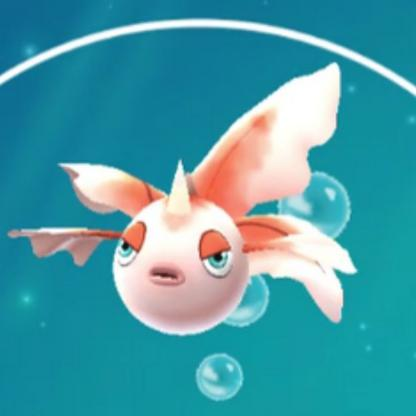Goldeen: (24, 61, 386, 365)
